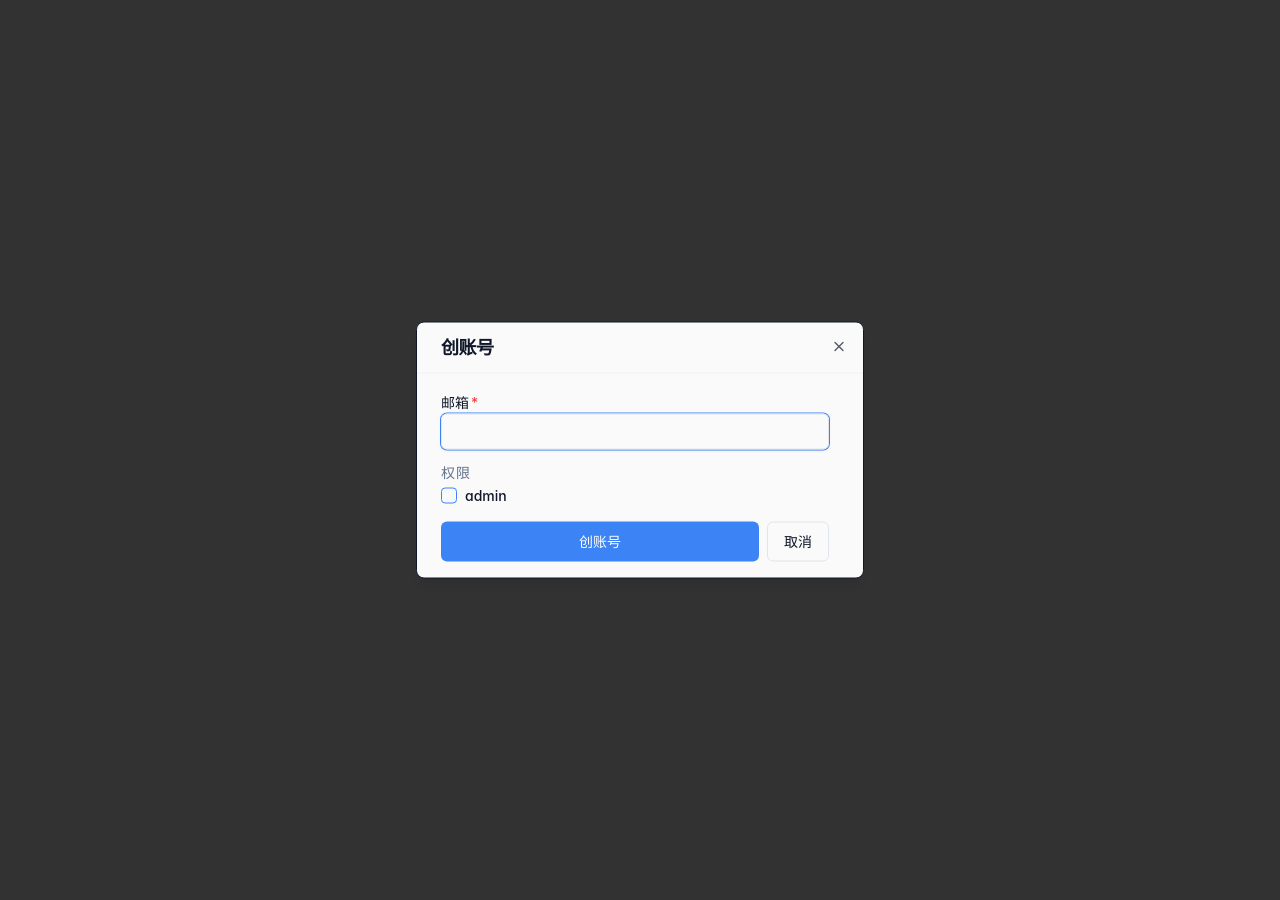
Scenario: CreateInviteDialog › 重复 email (HTTP_CONFLICT) → 顶部错误
This screenshot has width=1280, height=900.
In the field with test id "email-input": (635,432) 441,414 -> 829,450, type "dup@x.com"
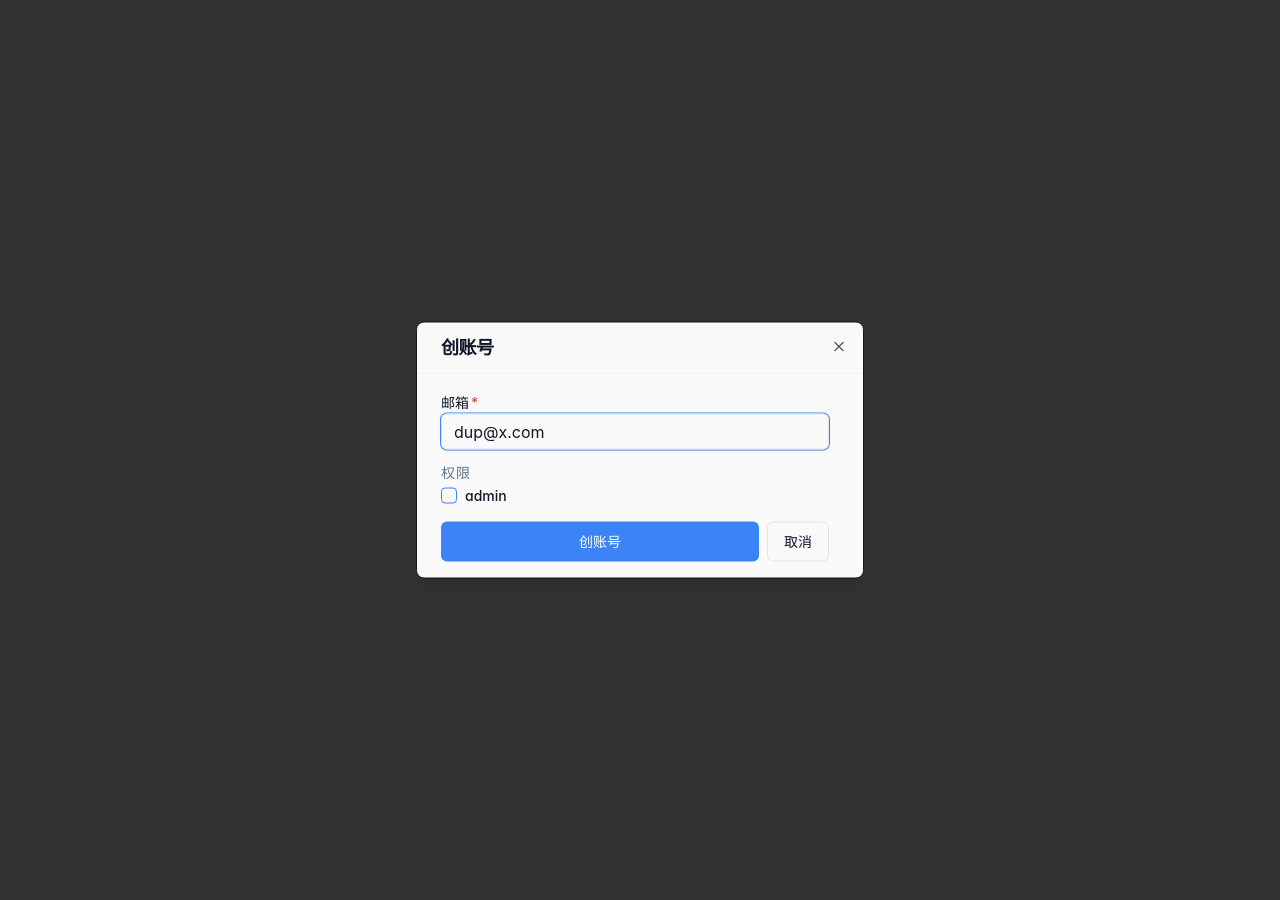
Click the button with test id "submit": (600,542) 441,522 -> 759,562
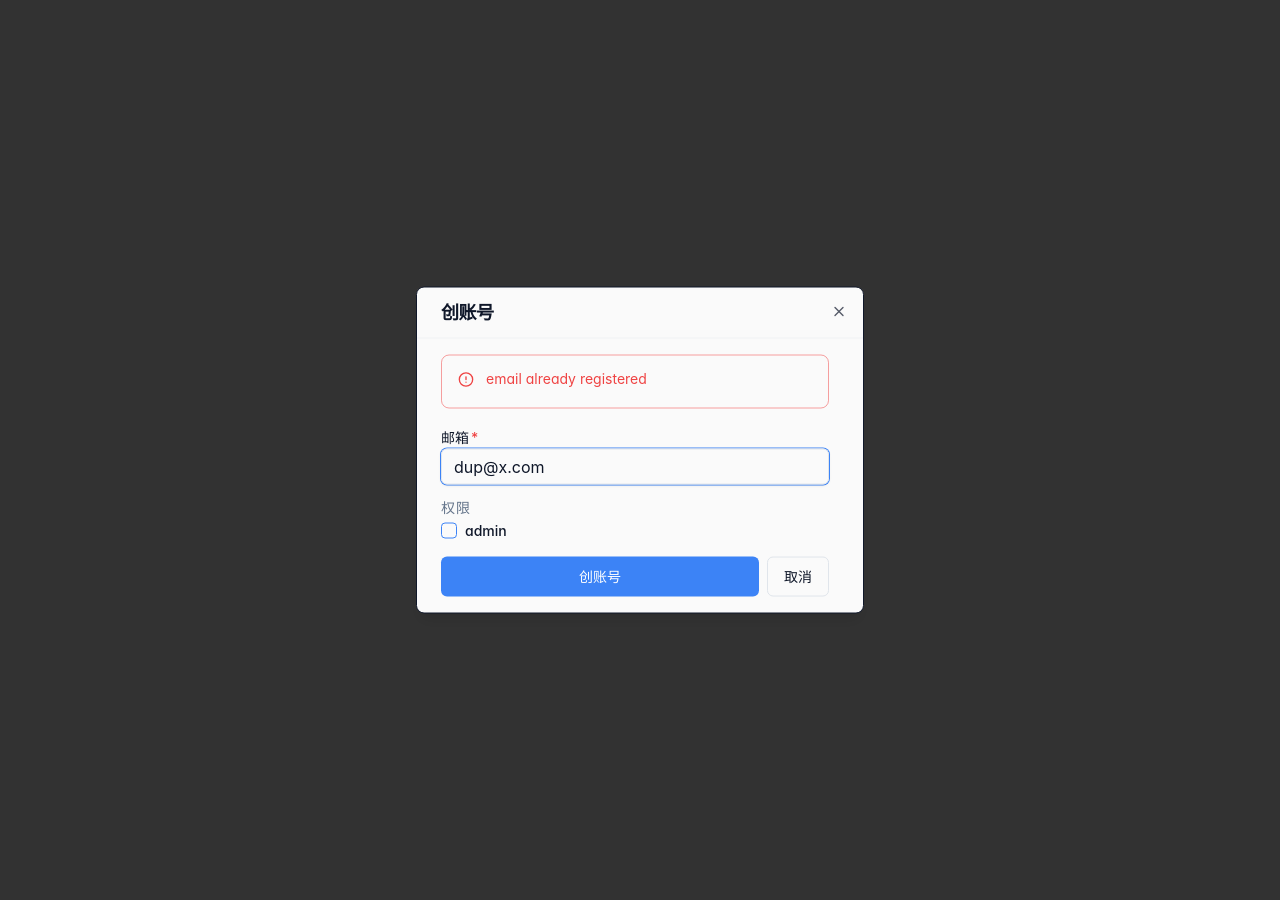
Check: the text "email already registered" is shown, box 486,370 -> 647,386
